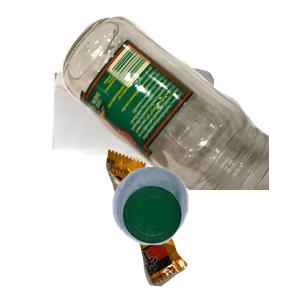glass: (60, 14, 300, 194)
paper: (50, 61, 257, 211)
plastic: (110, 164, 300, 300)
trash: (103, 147, 300, 300)
